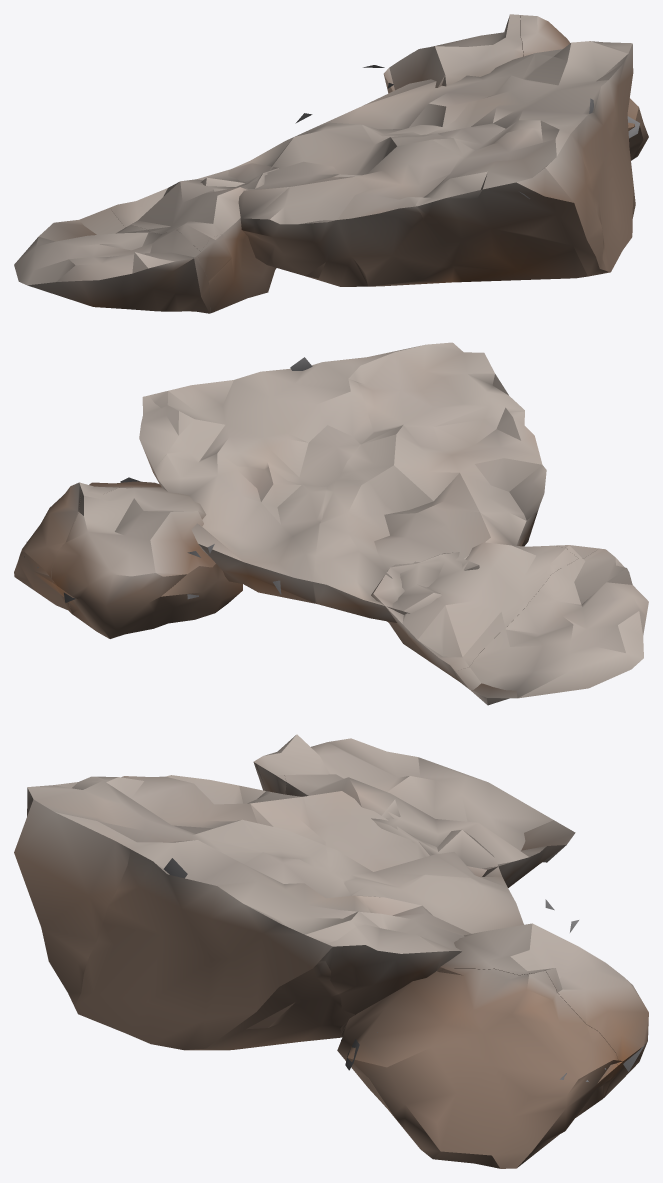
The model's file is metal-node.glb.
3 views of the same model, one above another, from view 1: azimuth 30°, elevation 25°; view 2: azimuth 150°, elevation 25°; view 3: azimuth 270°, elevation 25° (orthographic). The views are drawn at different scales.
Parts seen in each view (by area): view 1: c06, c04, c01, c05, c00, c02, c03; view 2: c02, c01, c05, c00, c04, c06, c03; view 3: c05, c03, c02, c06, c01, c00, c04.
Part boxes in pixels (x1,y1,x2,y2): c06: [415, 125, 606, 281]; c04: [197, 133, 470, 286]; c01: [110, 124, 423, 313]; c05: [423, 41, 635, 273]; c00: [14, 208, 209, 313]; c02: [295, 14, 536, 136]; c03: [520, 15, 648, 160]; c02: [51, 451, 326, 638]; c01: [313, 480, 578, 680]; c05: [149, 357, 373, 486]; c00: [454, 548, 648, 705]; c04: [337, 411, 599, 558]; c06: [349, 342, 524, 432]; c03: [14, 395, 186, 613]; c05: [74, 840, 383, 1050]; c03: [319, 924, 618, 1168]; c02: [343, 874, 648, 1097]; c06: [14, 776, 223, 1006]; c01: [284, 774, 550, 893]; c00: [253, 734, 575, 867]; c04: [97, 764, 329, 871].
Size of the model in its own units: 1.85 by 0.5111 by 1.33.
